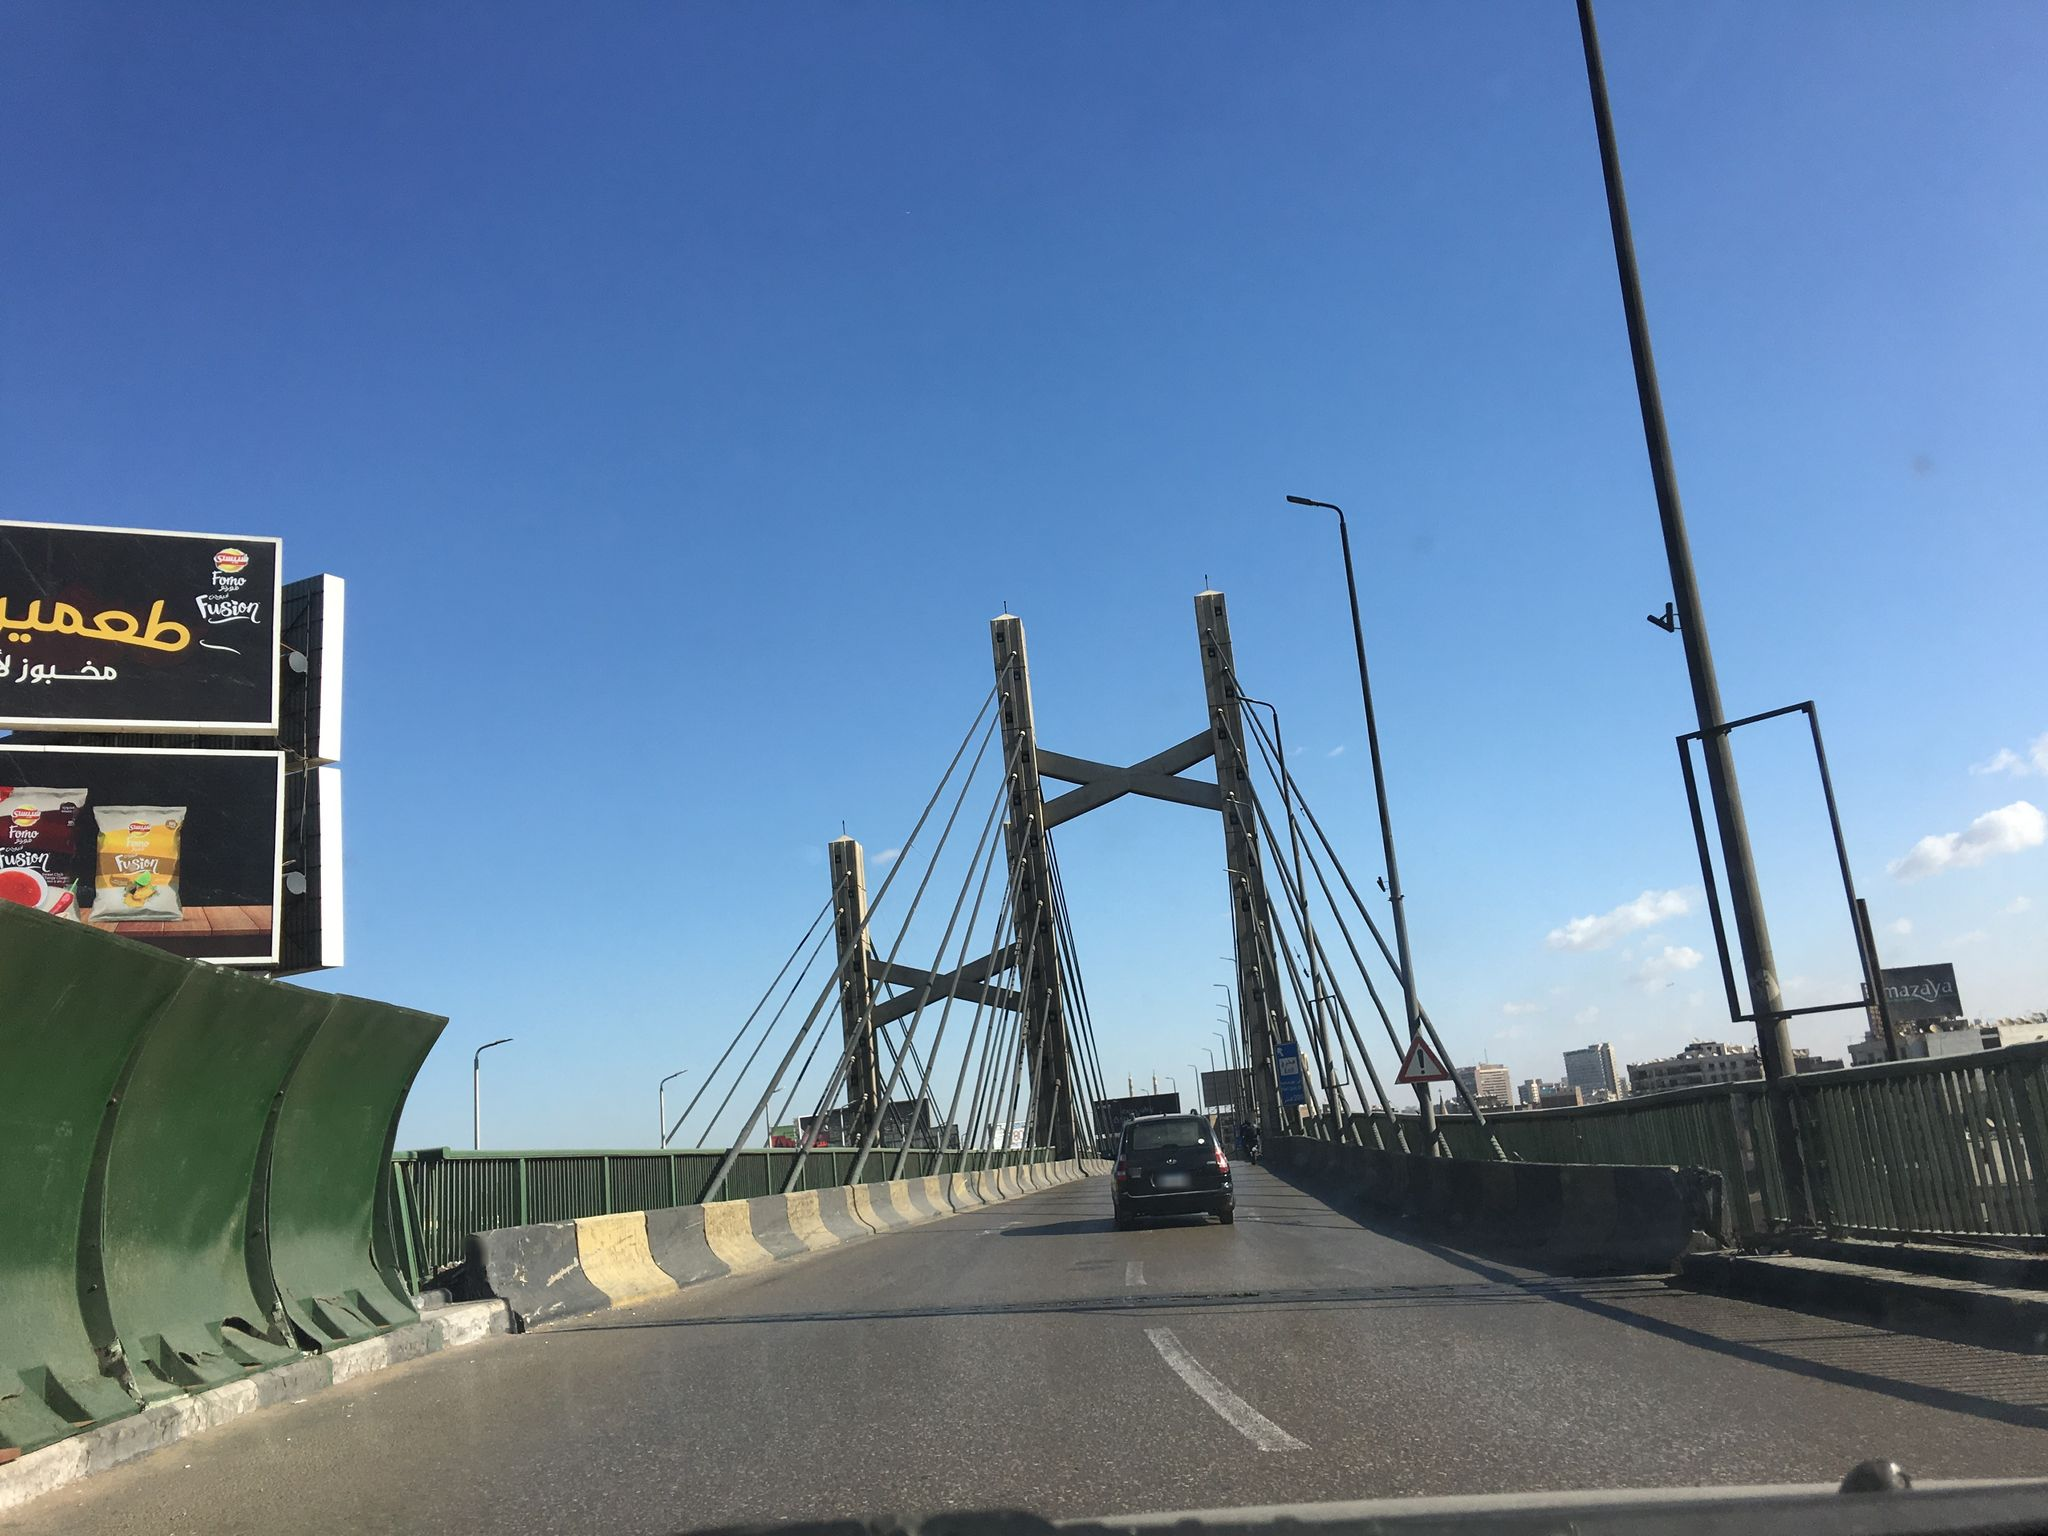car: (1101, 1112, 1235, 1225)
motorcycle: (1238, 1133, 1263, 1165)
